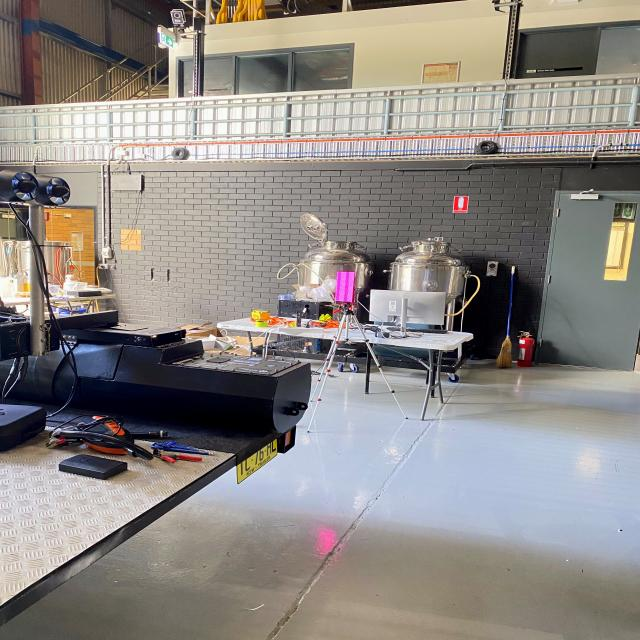matrix: (334, 269, 357, 305)
